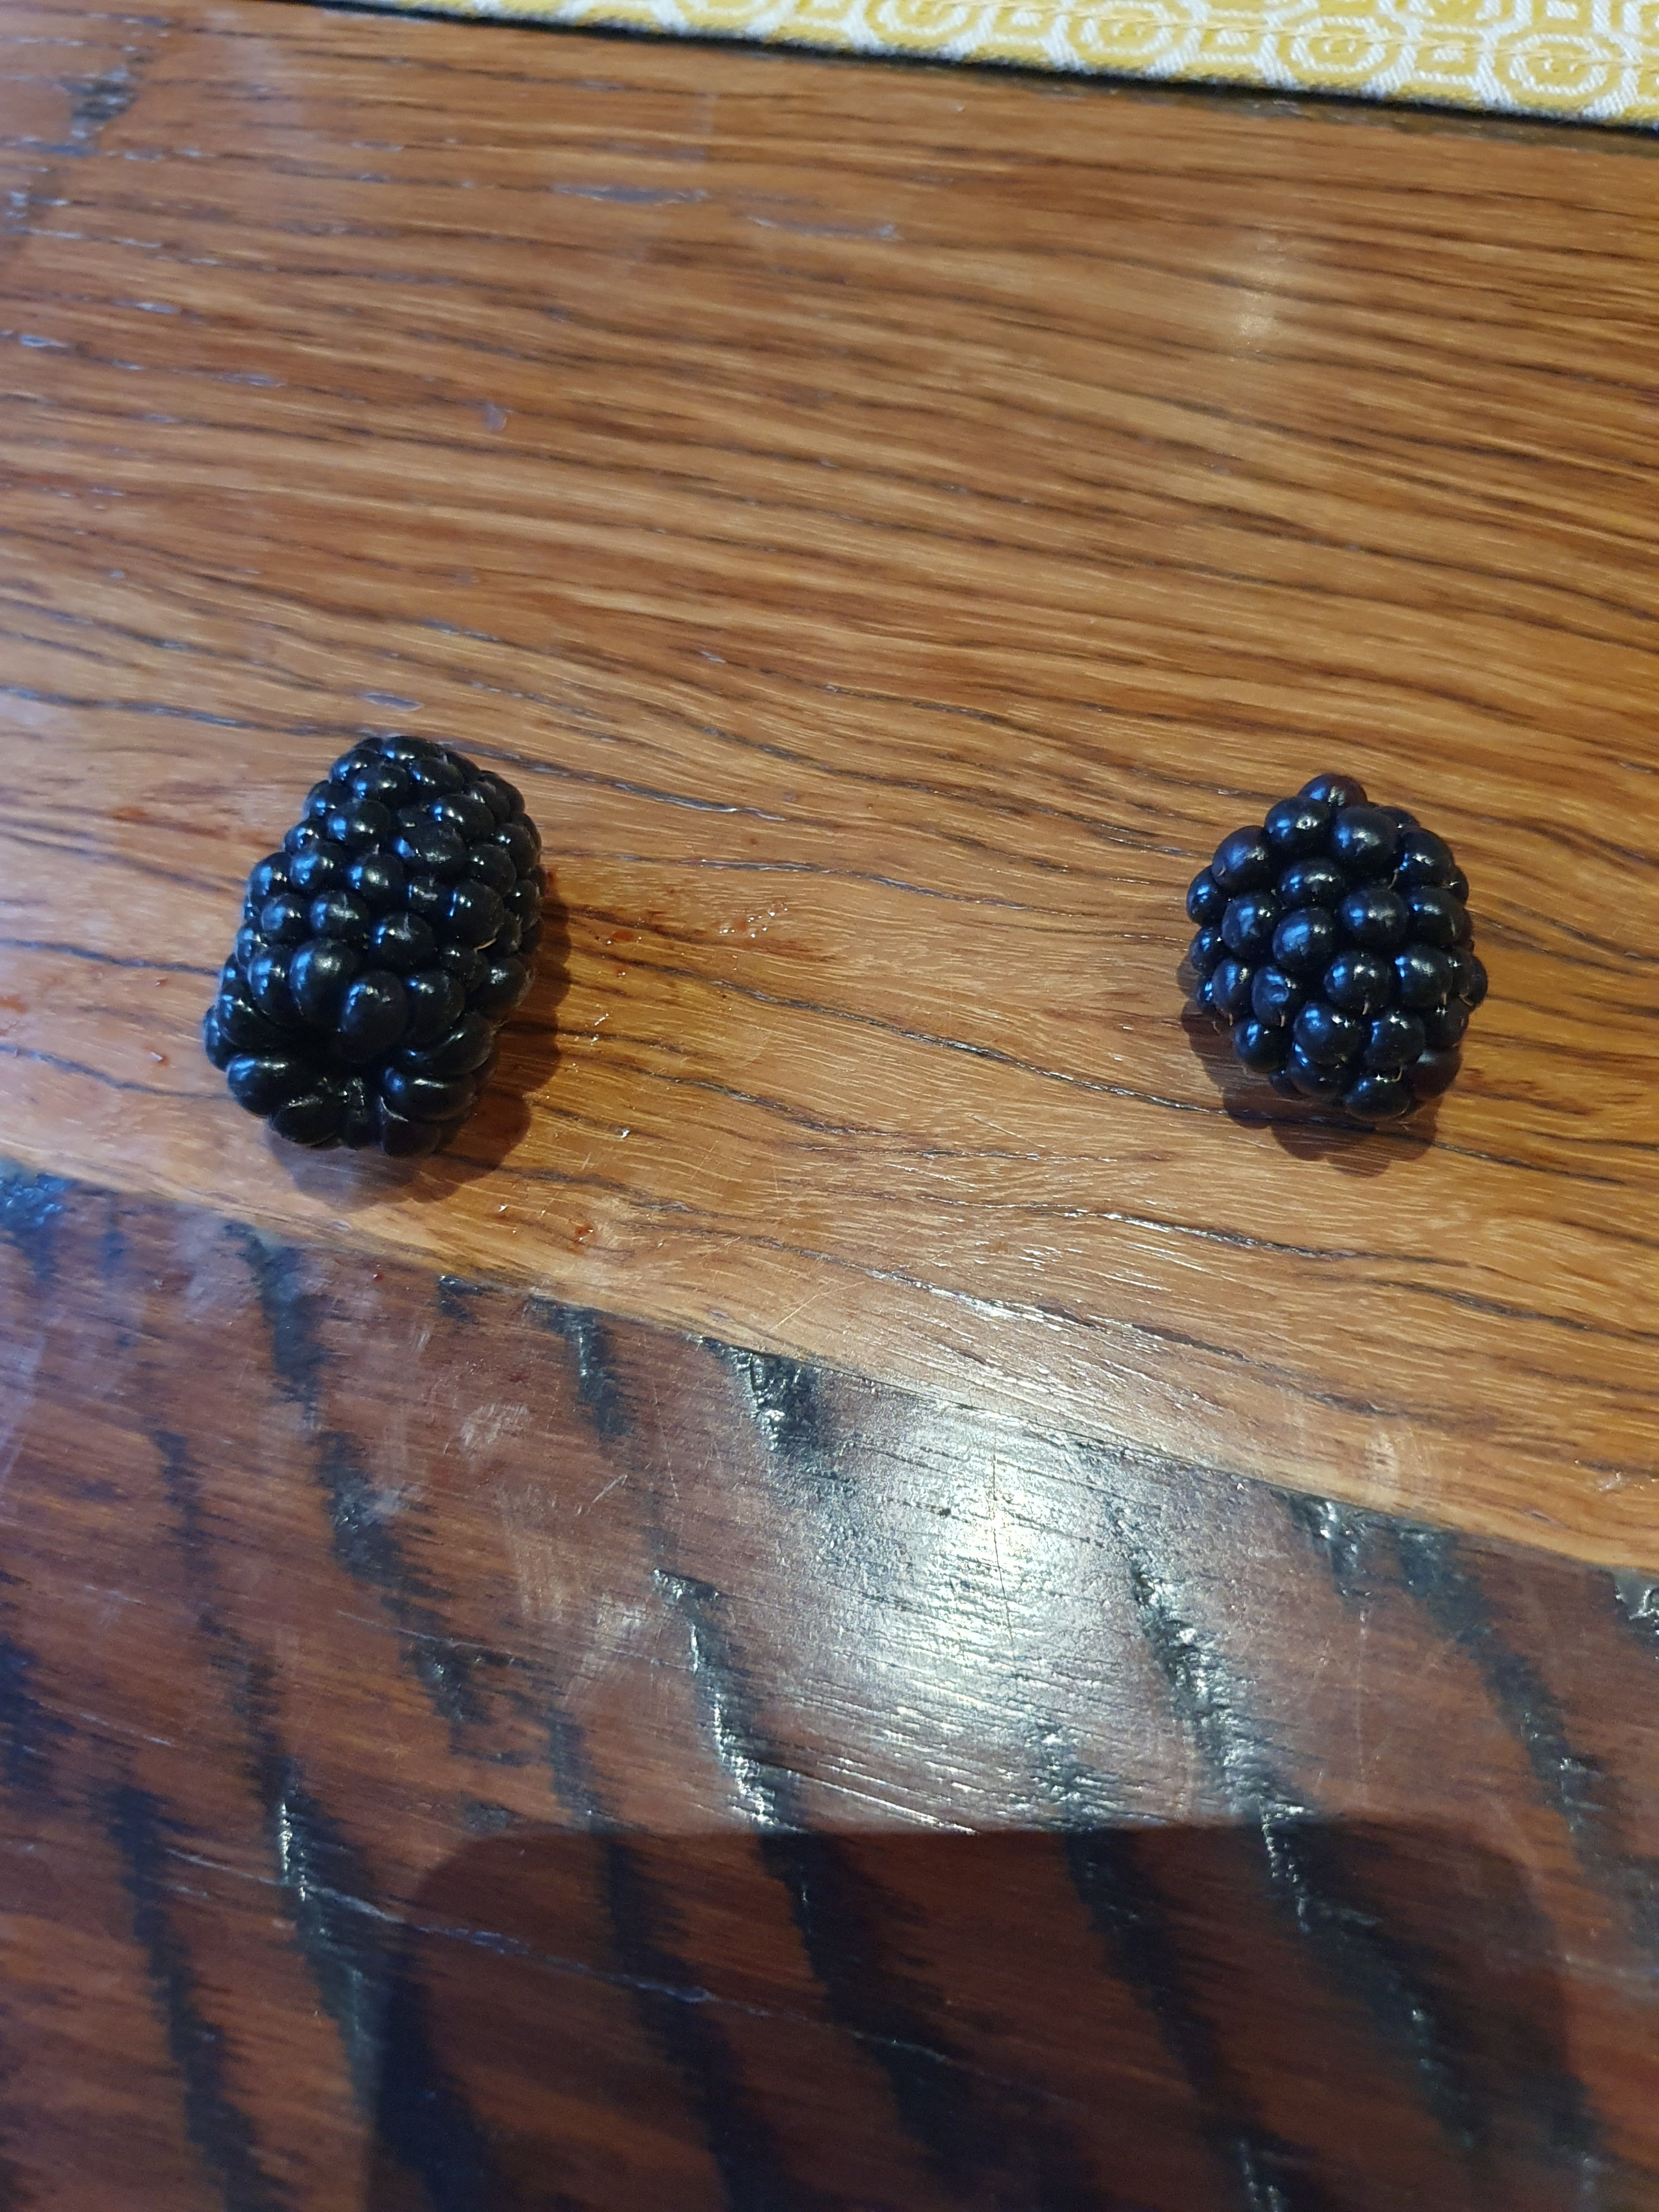blackberry: (202, 726, 592, 1193), (1176, 766, 1499, 1165)
